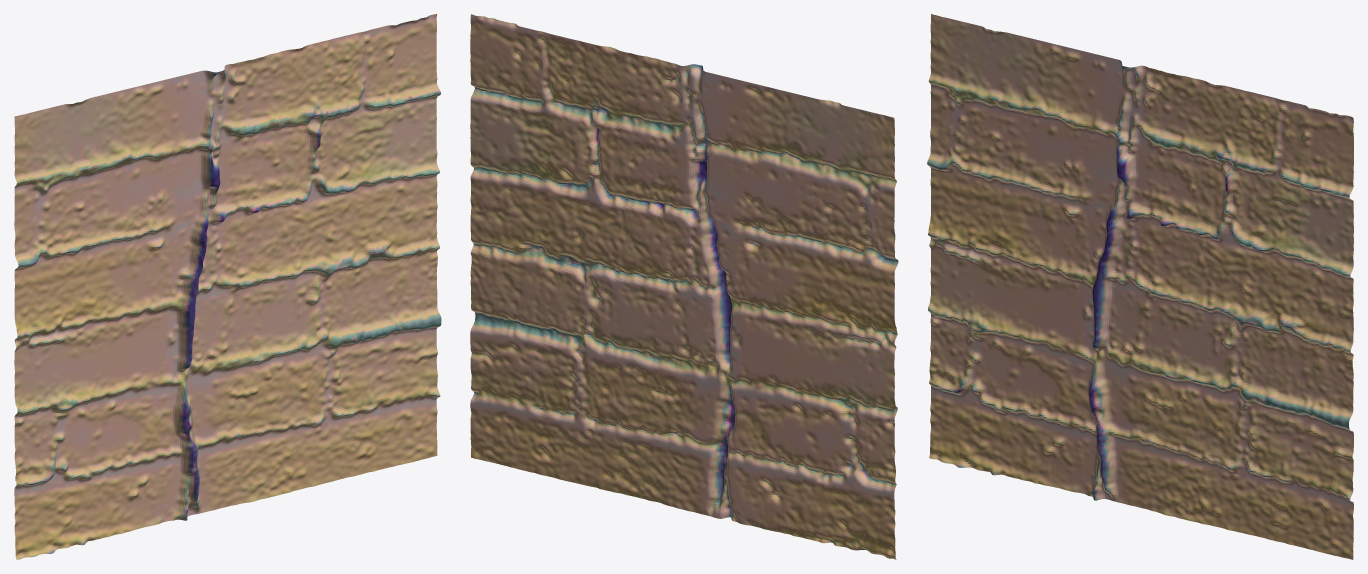
3 views of the same model, side by side, from view 1: azimuth 30°, elevation 25°; view 2: azimuth 150°, elevation 25°; view 3: azimuth 330°, elevation 25° (orthographic).
Parts seen in each view (by area): view 1: world; view 2: world; view 3: world.
Boxes of the visible parts, x1,y1,x2,y2 form: world: [14, 14, 441, 559]; world: [470, 14, 898, 559]; world: [927, 14, 1353, 559].
Bounding box in the file's own units: 299 × 299 × 8.79.
